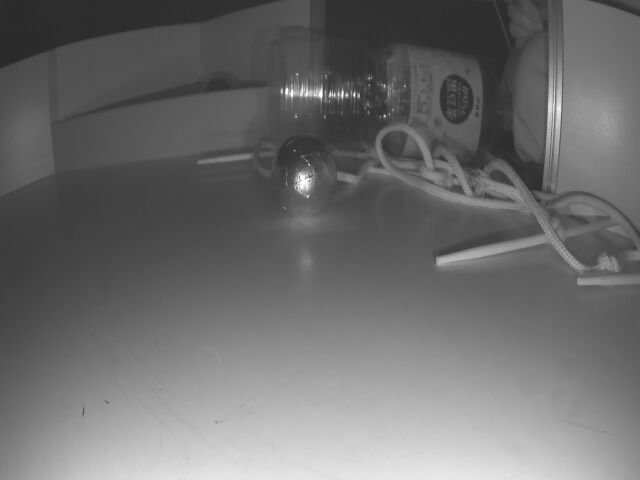Live: (274, 132, 335, 214)
Point: (53, 78, 264, 175)
